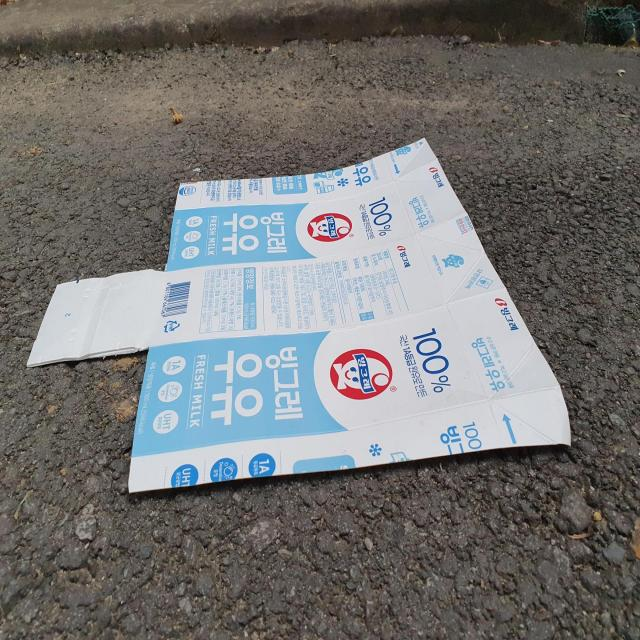paperpack: (26, 138, 572, 493)
